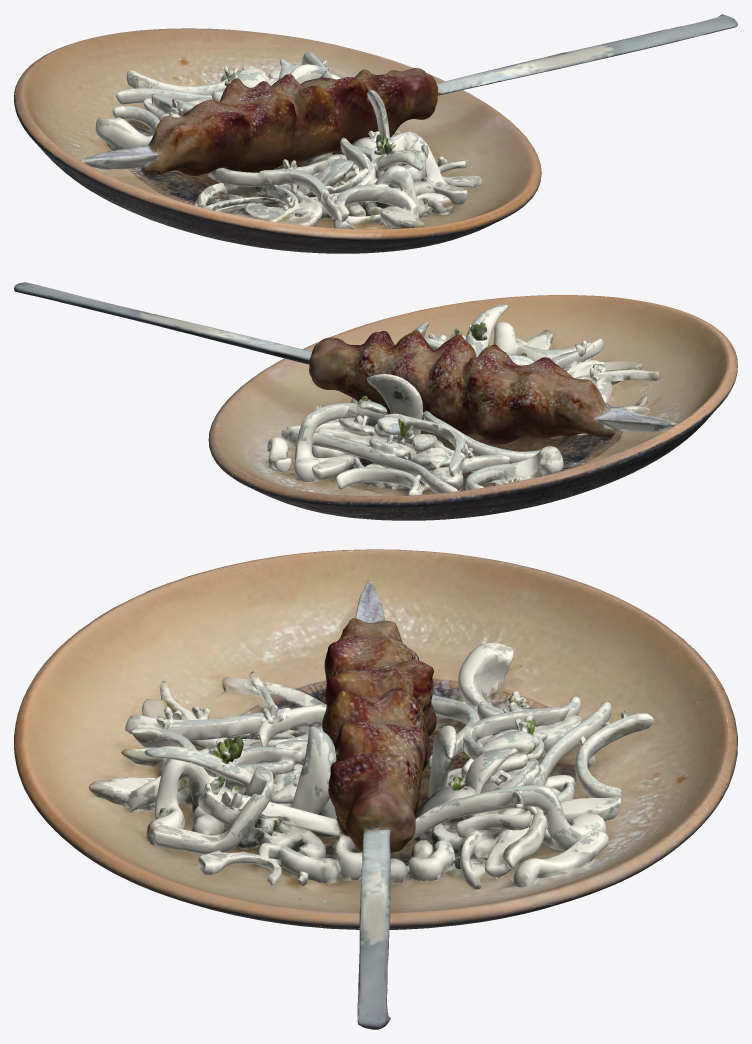
The model's file is qiymali_shashlik.glb.
The picture shows the model from 3 angles, top to bottom: view 1: azimuth 30°, elevation 25°; view 2: azimuth 150°, elevation 25°; view 3: azimuth 270°, elevation 25°; orthographic projection. The views are drawn at different scales.
Visible parts, largest first — view 1: tripo_node_be14ae13-f252-4d00-b190-436366d1ed06; view 2: tripo_node_be14ae13-f252-4d00-b190-436366d1ed06; view 3: tripo_node_be14ae13-f252-4d00-b190-436366d1ed06.
Part boxes in pixels (x1=…): tripo_node_be14ae13-f252-4d00-b190-436366d1ed06: x1=14, y1=14, x2=737, y2=253; tripo_node_be14ae13-f252-4d00-b190-436366d1ed06: x1=14, y1=282, x2=737, y2=520; tripo_node_be14ae13-f252-4d00-b190-436366d1ed06: x1=14, y1=549, x2=737, y2=1029.
Bounding box in the file's own units: 0.9794 × 0.1548 × 0.6906.
Materials: 1 (1 with a texture image).
